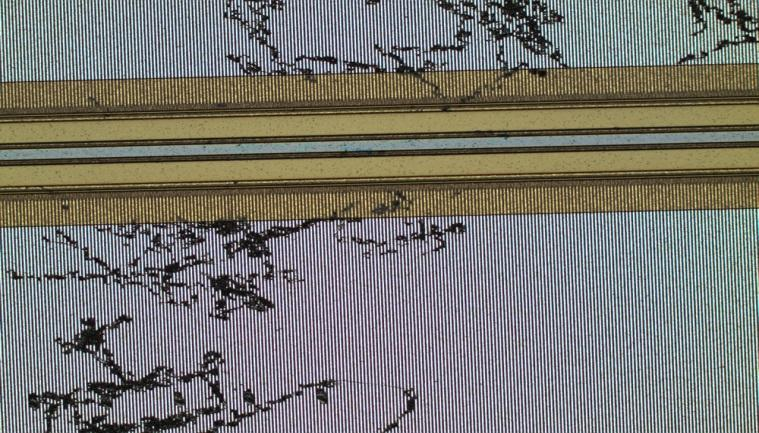SCRATCH: (1, 1, 609, 433)
